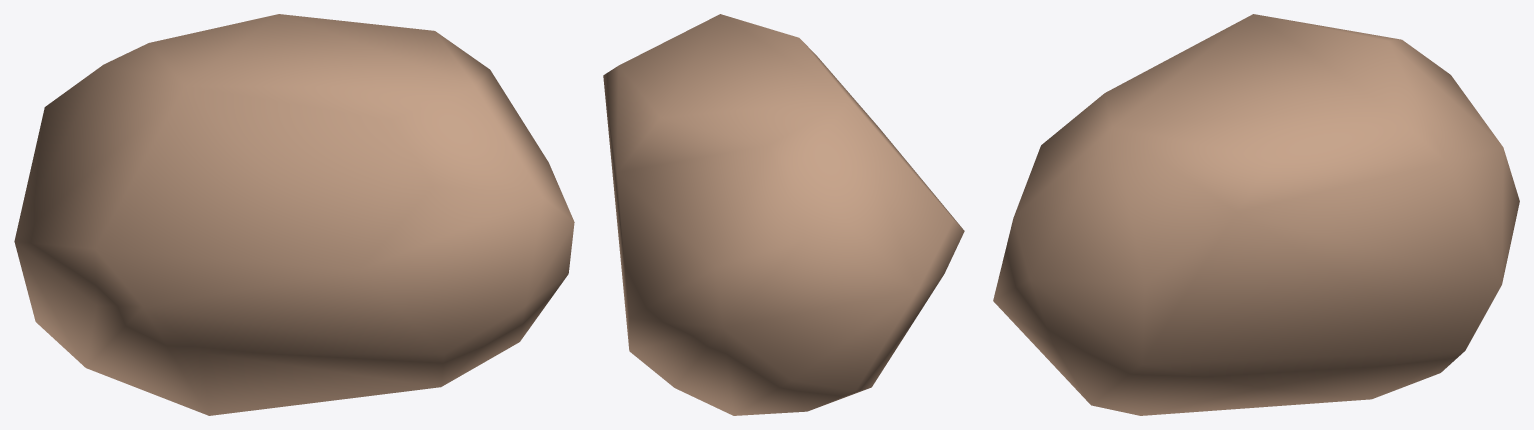
Rendered from ZMOBA_Rock_B_1.FBX.
The picture shows the model from 3 angles, left to right: view 1: azimuth 30°, elevation 25°; view 2: azimuth 150°, elevation 25°; view 3: azimuth 270°, elevation 25°; orthographic projection. The views are drawn at different scales.
Parts seen in each view (by area): view 1: ZMOBA_Rock_B_1; view 2: ZMOBA_Rock_B_1; view 3: ZMOBA_Rock_B_1.
Boxes of the visible parts, <box> form: ZMOBA_Rock_B_1: <box>14,14,574,415</box>; ZMOBA_Rock_B_1: <box>603,14,964,415</box>; ZMOBA_Rock_B_1: <box>993,14,1519,415</box>.
Bounding box in the file's own units: 203 × 148 × 209.
